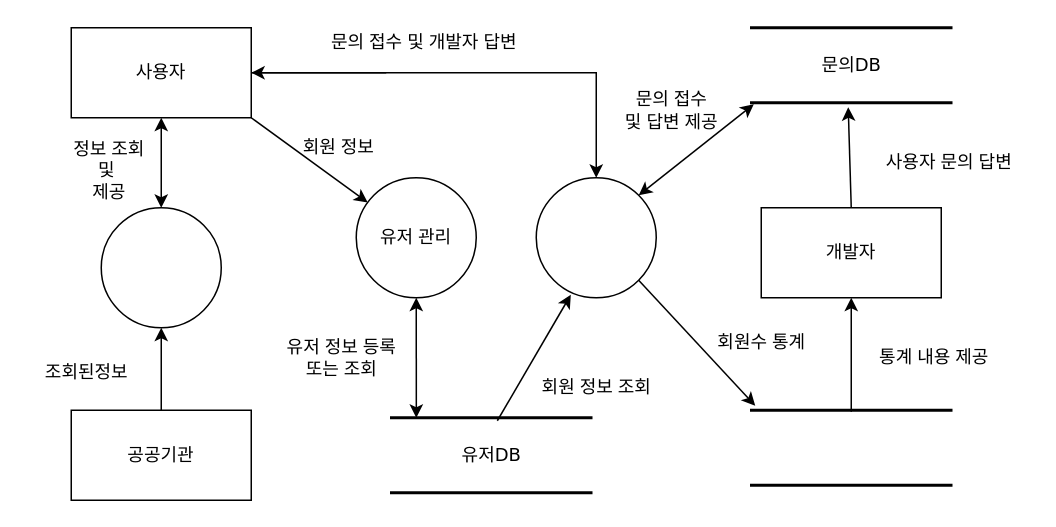
Some shapes in this 1056 by 527 pixel diagram are drawn without their labels. The shapes that lost their labels are listed below. From the top down, each one's box as (x1, y1, x2, y2) in pixels, then its label:
(535, 176, 656, 298): 문의 관리
(100, 206, 221, 328): 정보 관리
(748, 408, 953, 486): 통계DB
